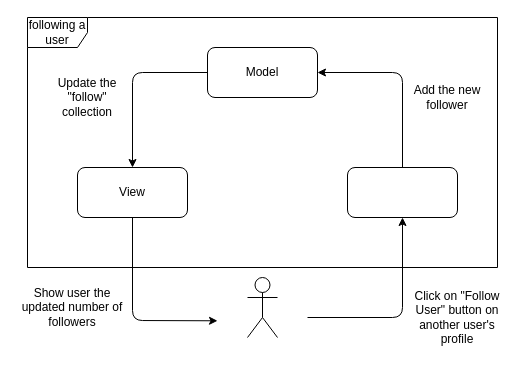
Image size: 524x376. Some labels were removed from this diagram. Here are the shapes that lost their labels. From the top down, the centre of each, then its label:
At [402,192]: "Controller".
At [262,307]: "User".
